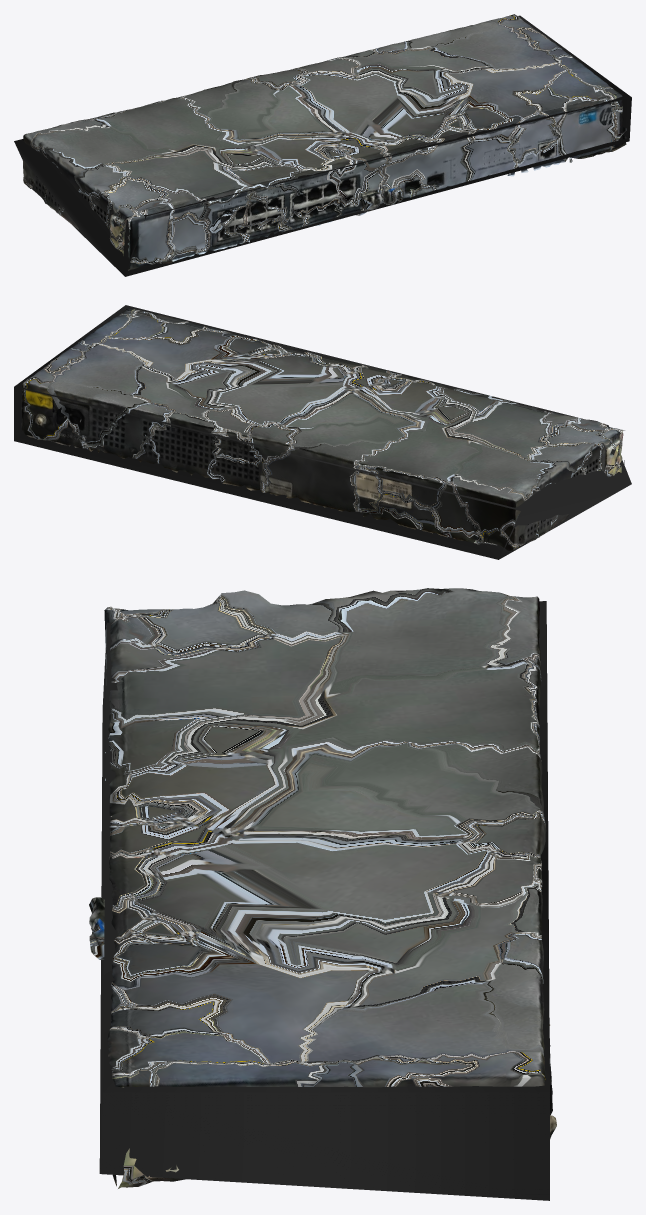
The model's file is network-switch.glb.
3 views of the same model, one above another, from view 1: azimuth 30°, elevation 25°; view 2: azimuth 150°, elevation 25°; view 3: azimuth 270°, elevation 25° (orthographic). The views are drawn at different scales.
Visible parts, largest first — view 1: Object_4, Object_7; view 2: Object_4, Object_7; view 3: Object_4, Object_7.
Boxes of the visible parts, x1,y1,x2,y2 form: Object_4: (23,14,626,270); Object_7: (14,15,631,276); Object_4: (21,308,624,551); Object_7: (14,305,631,559); Object_4: (89,588,556,1188); Object_7: (99,601,549,1200).
Bounding box in the file's own units: 0.4498 × 0.0557 × 0.1802.
2 materials, 2 textured.
